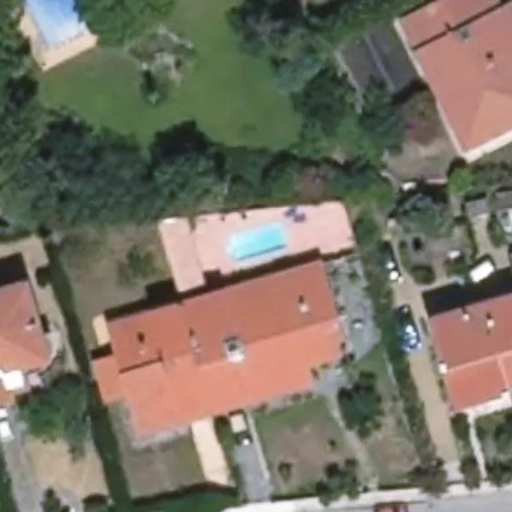pool: (227, 237, 284, 246)
